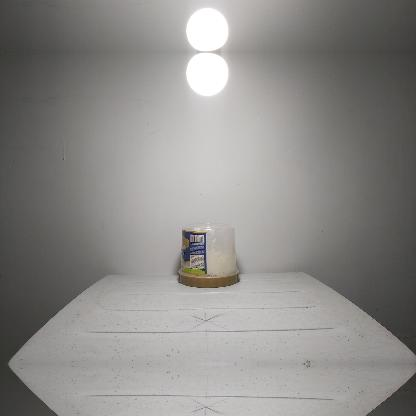Lady-s-Choice: (178, 223, 240, 288)
